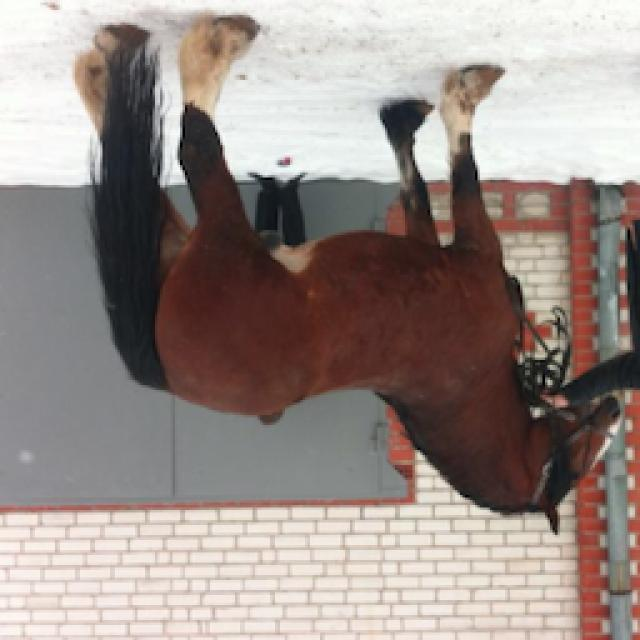Horse: (68, 15, 628, 540)
